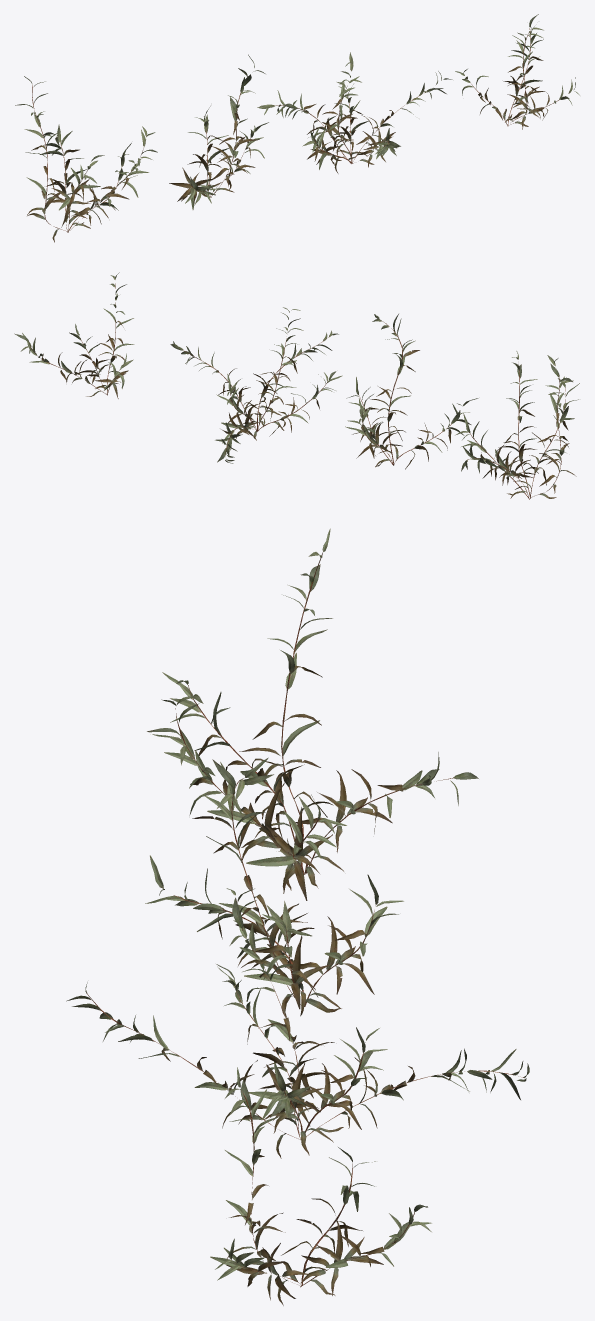
Rendered from shrub_02.glb.
3 views of the same model, one above another, from view 1: azimuth 30°, elevation 25°; view 2: azimuth 150°, elevation 25°; view 3: azimuth 270°, elevation 25° (orthographic). The views are drawn at different scales.
Visible parts, largest first — view 1: shrub_02_a; view 2: shrub_02_a; view 3: shrub_02_a.
Part boxes in pixels (x1=…): shrub_02_a: x1=15, y1=14, x2=579, y2=242; shrub_02_a: x1=14, y1=272, x2=579, y2=499; shrub_02_a: x1=66, y1=528, x2=529, y2=1305.
Bounding box in the file's own units: 6.05 × 1.7 × 2.28.
1 material, 1 textured.
